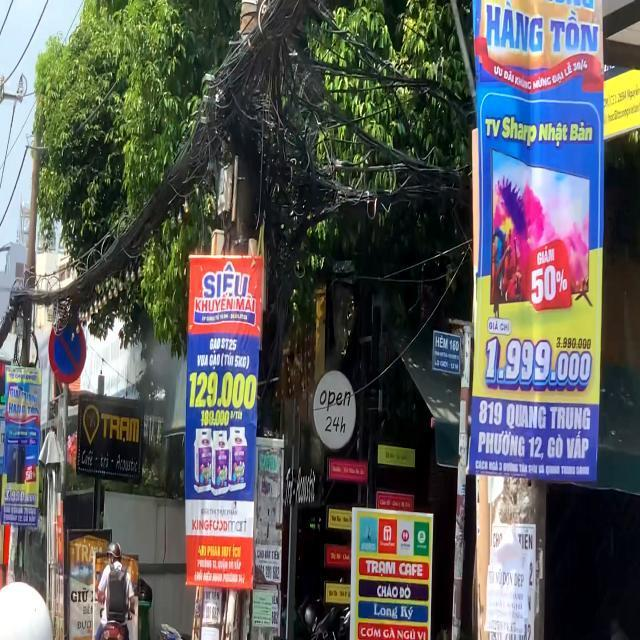131a-cam-do-xe: (48, 316, 86, 384)
